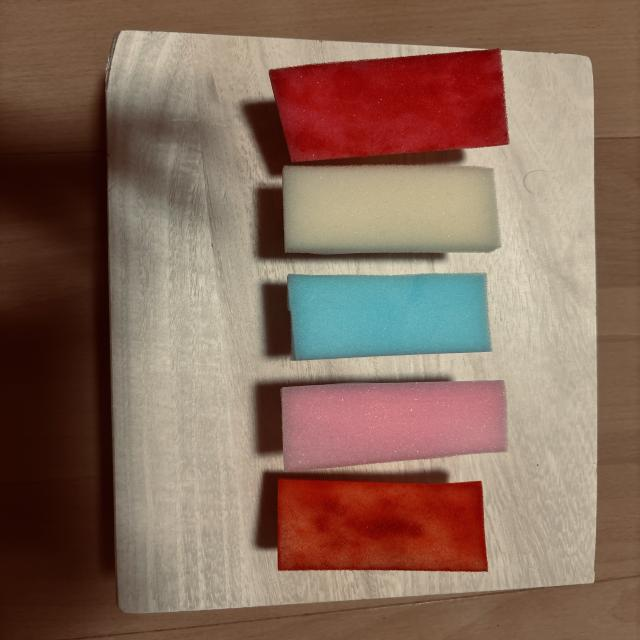ika: (288, 273, 491, 360)
maguro: (269, 50, 509, 162)
salmon: (278, 479, 488, 572)
tai: (281, 381, 506, 471)
tamago: (283, 165, 500, 254)
